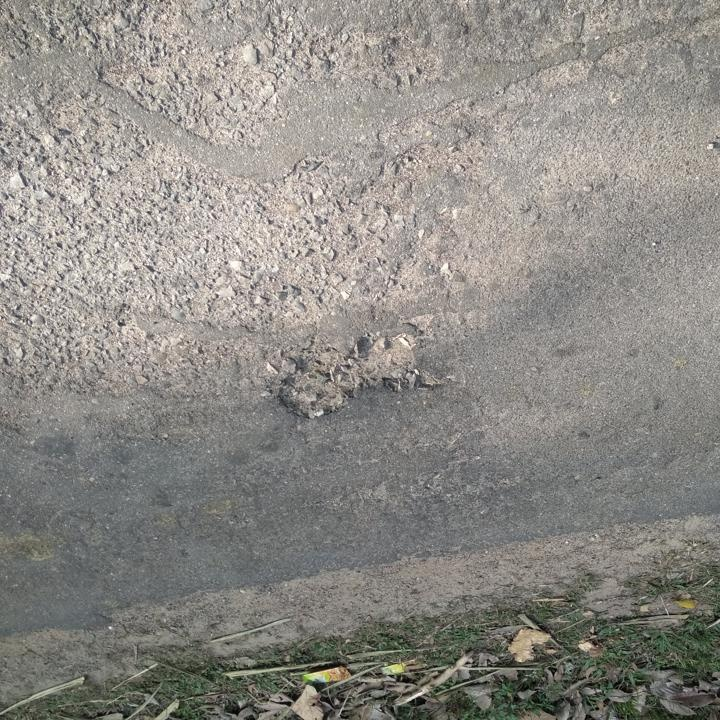pothole: (273, 329, 437, 425)
